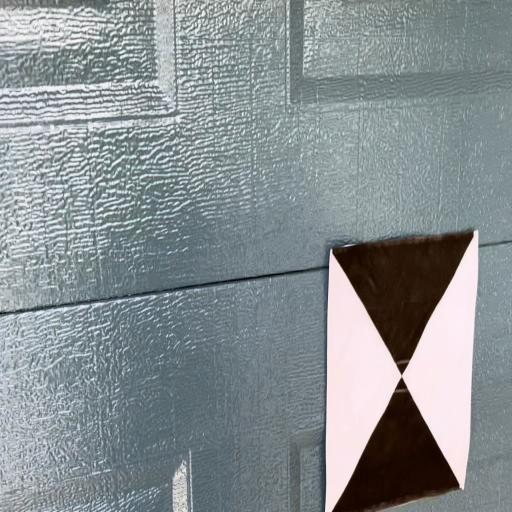target: (325, 230, 478, 512)
